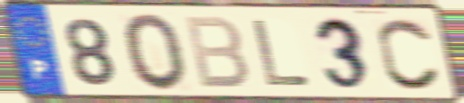3: (313, 13, 380, 93)
8: (63, 16, 119, 88)
B: (181, 15, 252, 91)
C: (375, 15, 444, 93)
L: (249, 18, 314, 89)
O: (120, 11, 190, 94)
